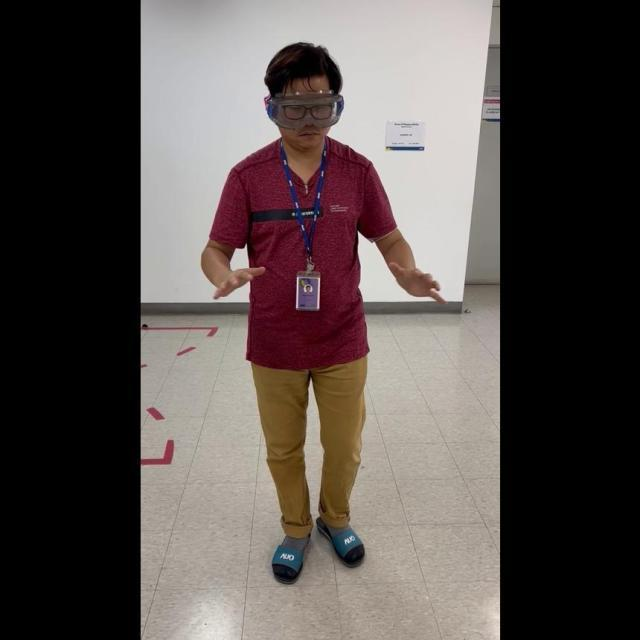bare_hand: (386, 255, 447, 305), (214, 257, 265, 295)
